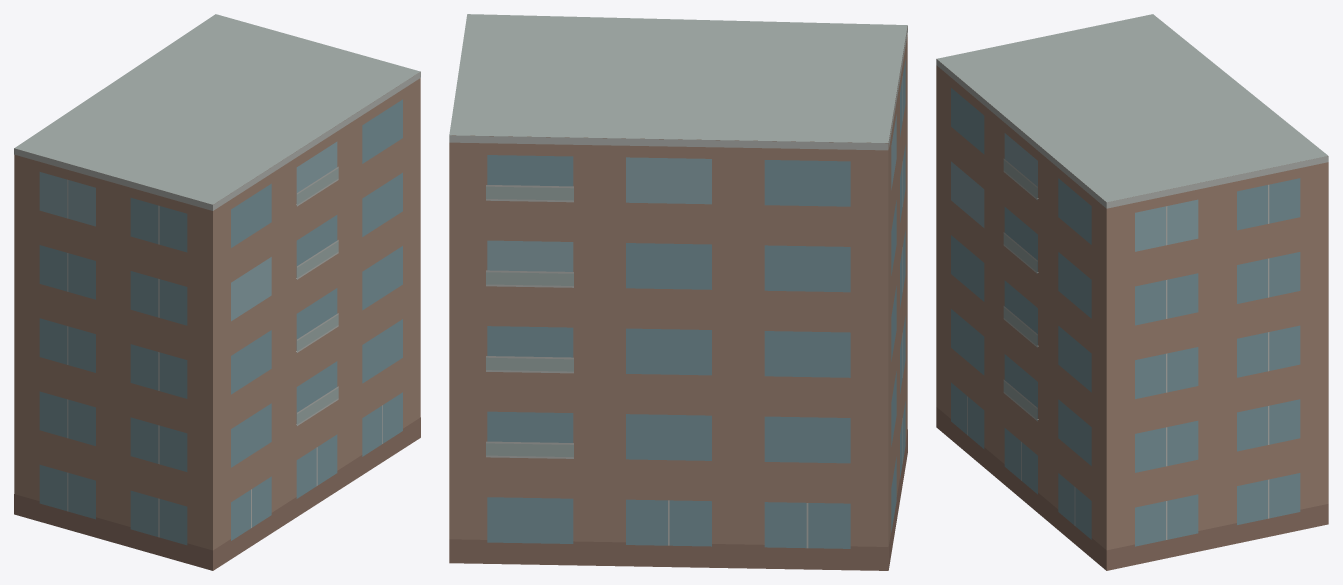
The model's file is survey-upis-32837172.glb.
The picture shows the model from 3 angles, left to right: view 1: azimuth 30°, elevation 25°; view 2: azimuth 150°, elevation 25°; view 3: azimuth 270°, elevation 25°; orthographic projection. The views are drawn at different scales.
Visible parts, largest first — view 1: survey-upis-32837172.tmp; view 2: survey-upis-32837172.tmp; view 3: survey-upis-32837172.tmp.
Boxes of the visible parts, bbox=[...] form: survey-upis-32837172.tmp: bbox=[14, 14, 420, 570]; survey-upis-32837172.tmp: bbox=[449, 14, 907, 570]; survey-upis-32837172.tmp: bbox=[936, 14, 1328, 570].
Bounding box in the file's own units: 15.69 × 14.3 × 13.8.
